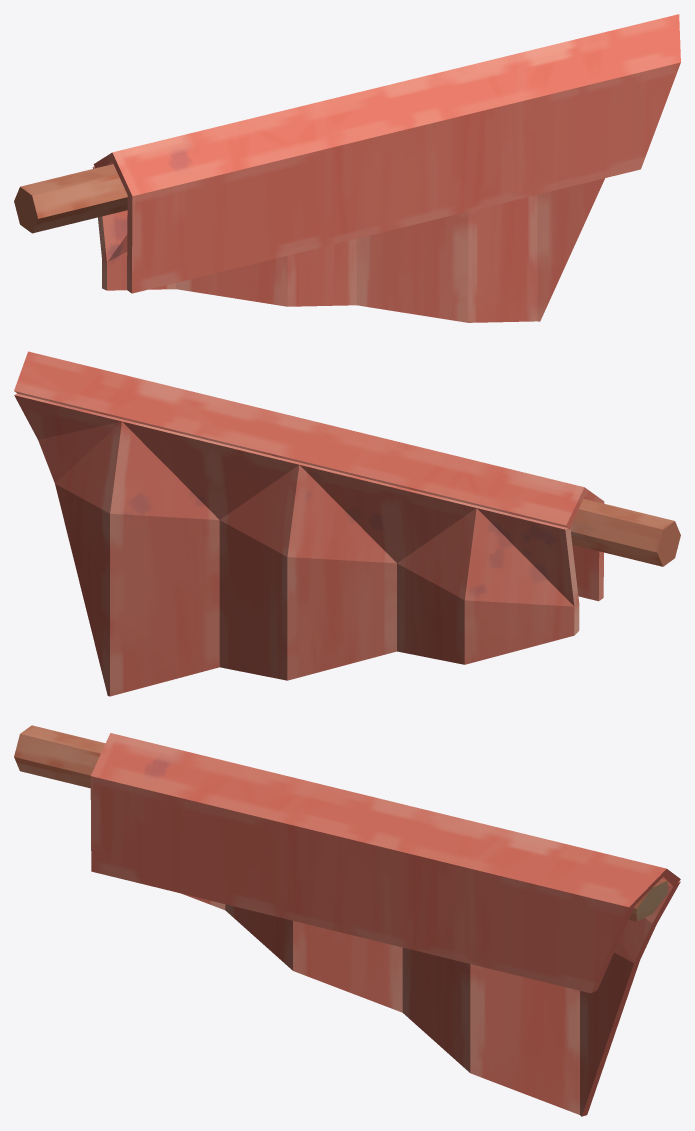
Rendered from cloth_s02.fbx.
3 renders of one model, top to bottom at view 1: azimuth 30°, elevation 25°; view 2: azimuth 150°, elevation 25°; view 3: azimuth 330°, elevation 25°, orthographic.
Parts seen in each view (by area): view 1: cloth_s02; view 2: cloth_s02; view 3: cloth_s02.
Part boxes in pixels (left/top/right/bottom): cloth_s02: left=14, top=14, right=680, bottom=322; cloth_s02: left=14, top=351, right=680, bottom=696; cloth_s02: left=14, top=725, right=680, bottom=1116.
Bounding box in the file's own units: 5.3 × 2.34 × 0.7289.
